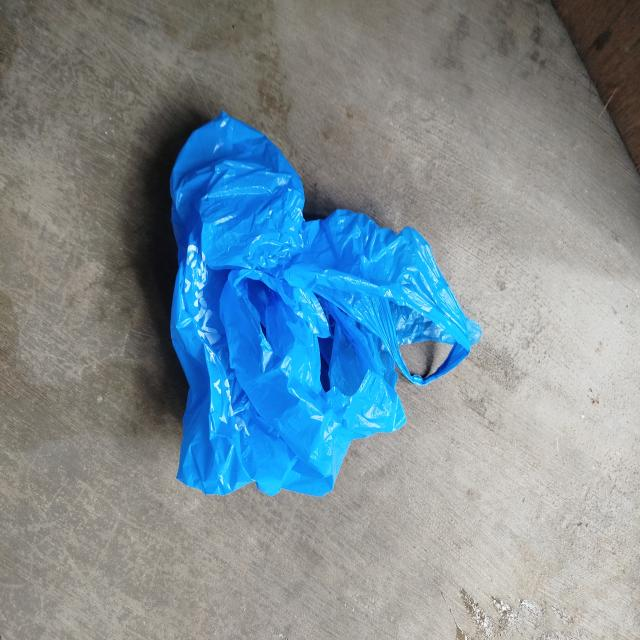residual: (160, 93, 499, 509)
